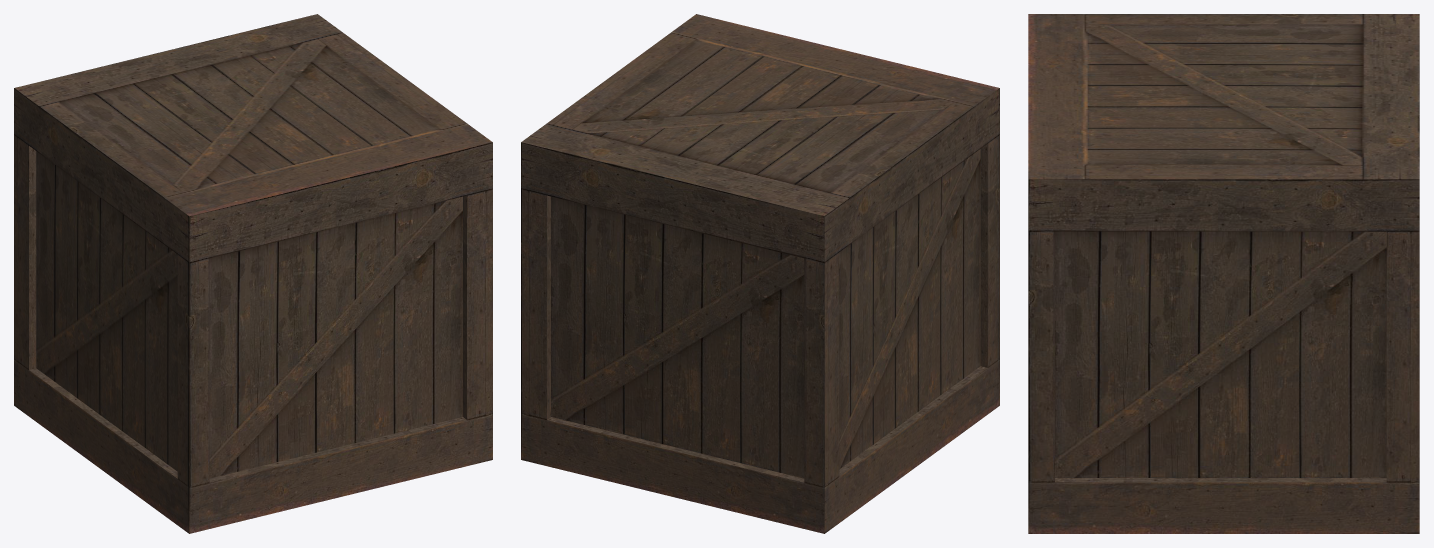
The model's file is crate.obj.
3 views of the same model, side by side, from view 1: azimuth 30°, elevation 25°; view 2: azimuth 150°, elevation 25°; view 3: azimuth 270°, elevation 25° (orthographic). The views are drawn at different scales.
Parts seen in each view (by area): view 1: box 01; view 2: box 01; view 3: box 01.
Part boxes in pixels (bbox=[...]): box 01: bbox=[14, 14, 492, 533]; box 01: bbox=[521, 14, 999, 533]; box 01: bbox=[1028, 14, 1419, 533].
Bounding box in the file's own units: 0.986 × 0.9858 × 0.9859.
Materials: 1 (1 with a texture image).
